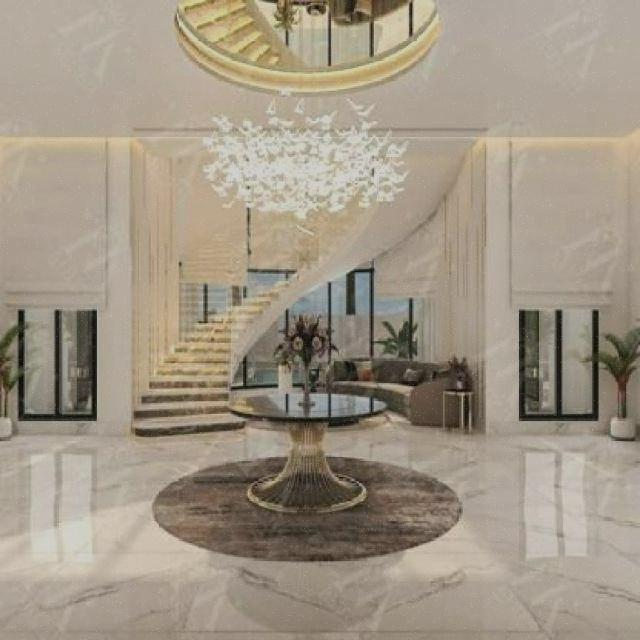stair: (86, 244, 266, 453)
